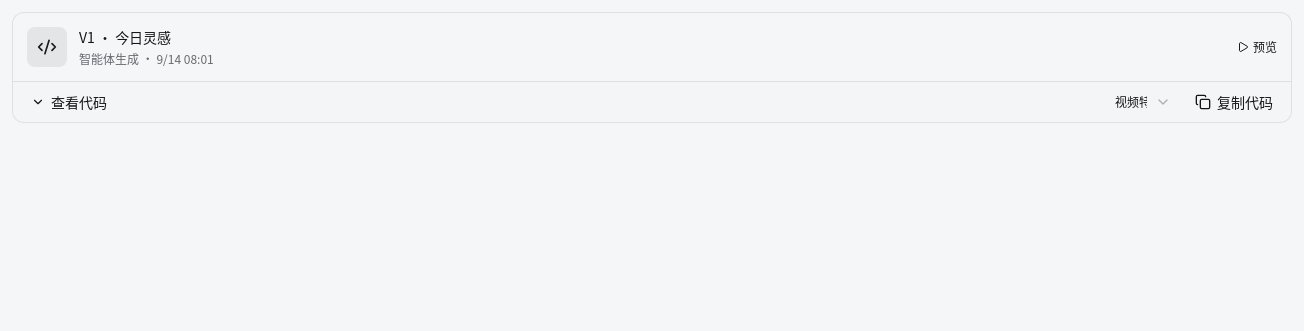
Scenario: 版本卡片展开时读取诊断并显示计数
Click the button with aria-label "展开 V1 代码" at (69, 102), box [21,86,117,118]
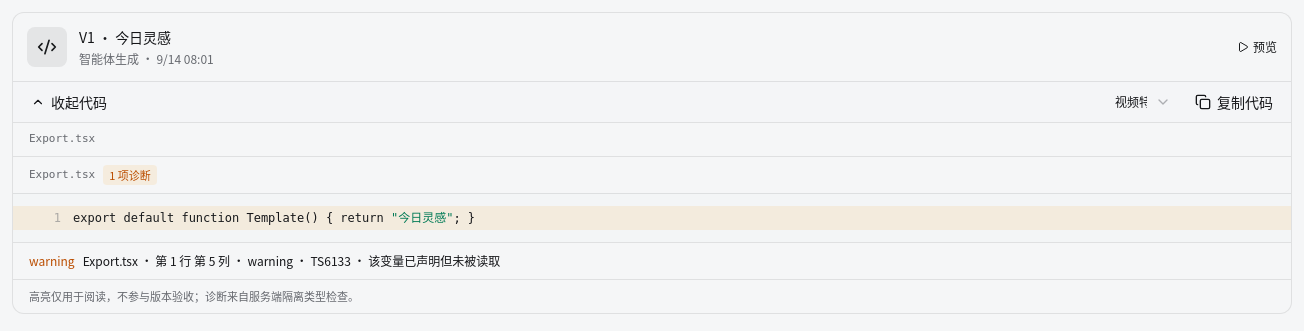
Now the element named "第 1 行：warning" is shown, box [13,206,1291,230]
Now the text "1 项诊断" is shown, box [103,164,157,185]
Now the element named "模板 TSX 代码" is shown, box [13,193,1291,242]
